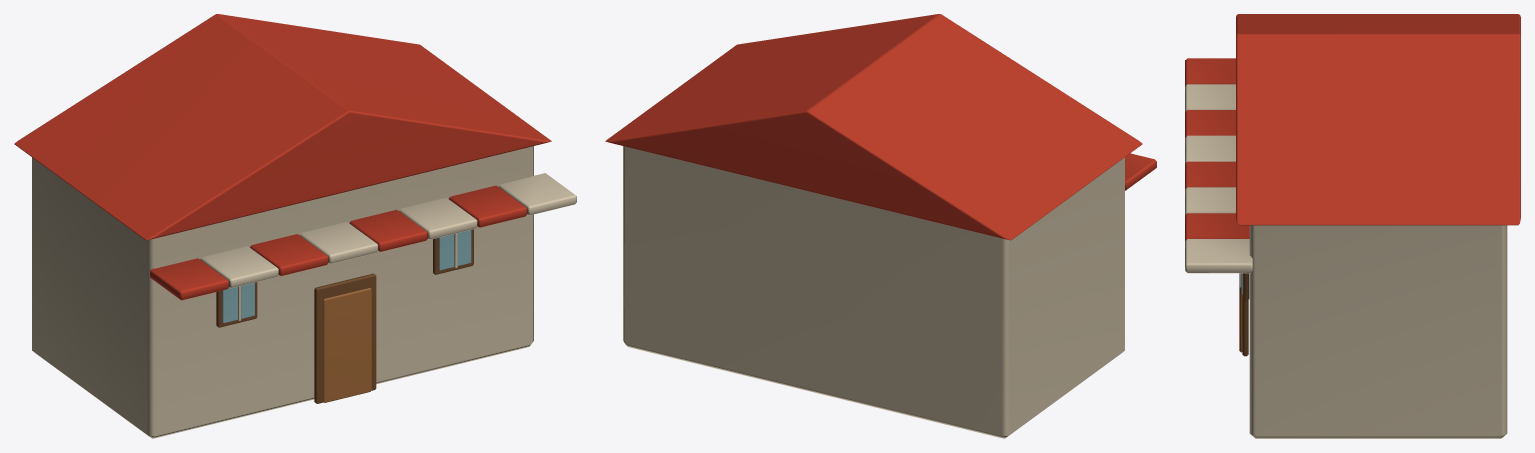
File: start_shop.glb
3 views of the same model, side by side, from view 1: azimuth 30°, elevation 25°; view 2: azimuth 150°, elevation 25°; view 3: azimuth 270°, elevation 25° (orthographic). The views are drawn at different scales.
Visible parts, largest first — view 1: start_shop; view 2: start_shop; view 3: start_shop.
Part boxes in pixels (x1,y1,x2,y2): start_shop: (14, 14, 576, 438); start_shop: (605, 14, 1156, 438); start_shop: (1185, 14, 1520, 438).
Bounding box in the file's own units: 7.38 × 4.99 × 4.95.
